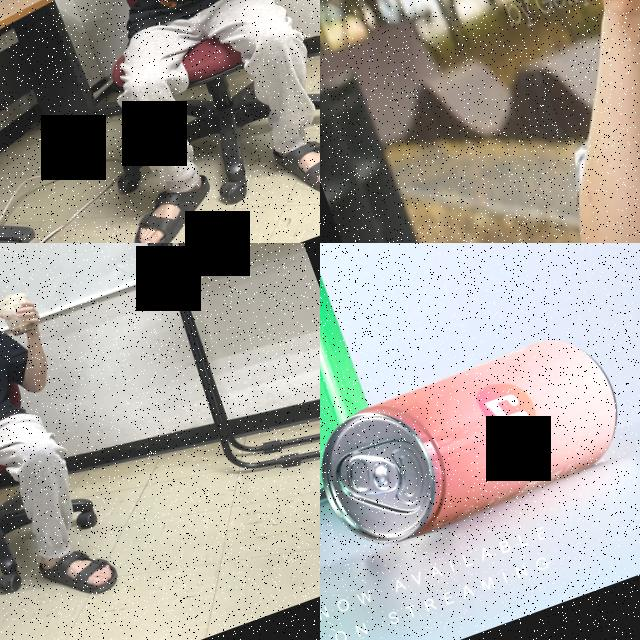can: (320, 322, 638, 561), (320, 243, 396, 522)
cup: (0, 287, 45, 341)
